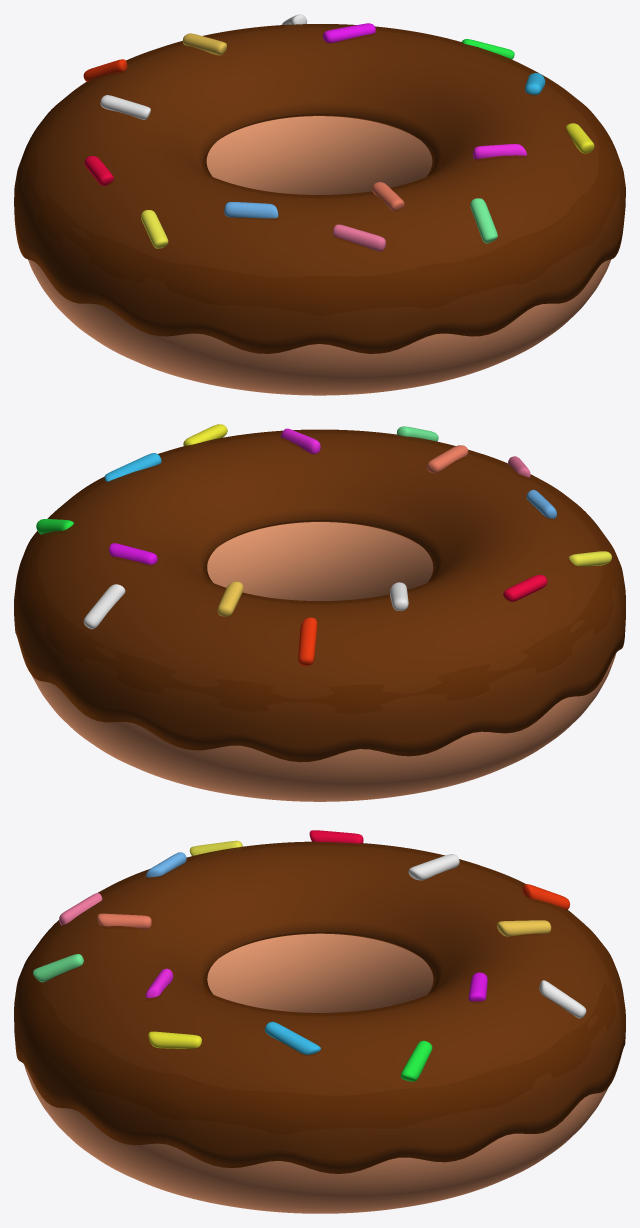
Rendered from NEWdonut.fbx.
The picture shows the model from 3 angles, top to bottom: view 1: azimuth 30°, elevation 25°; view 2: azimuth 150°, elevation 25°; view 3: azimuth 270°, elevation 25°; orthographic projection.
Visible parts, largest first — view 1: Torus.001, Torus, 큐브, 큐브.014, 큐브.013, 큐브.008, 큐브.005, 큐브.012, 큐브.002, 큐브.004; view 2: Torus.001, Torus, 큐브.011, 큐브.009, 큐브.006, 큐브.003, 큐브.005, 큐브.001, 큐브.004, 큐브.012, 큐브.002; view 3: Torus.001, Torus, 큐브.003, 큐브.010, 큐브.008, 큐브.004, 큐브.011, 큐브.013, 큐브.007, 큐브.001, 큐브.009, 큐브.006 (+1 smaller).
Part boxes in pixels (left/top/right/bottom): Torus.001: left=14, top=24, right=625, bottom=353; Torus: left=28, top=116, right=611, bottom=395; 큐브: left=224, top=202, right=278, bottom=218; 큐브.014: left=333, top=224, right=385, bottom=251; 큐브.013: left=470, top=198, right=497, bottom=243; 큐브.008: left=100, top=95, right=150, bottom=119; 큐브.005: left=323, top=23, right=375, bottom=43; 큐브.012: left=141, top=210, right=168, bottom=248; 큐브.002: left=473, top=144, right=526, bottom=159; 큐브.004: left=182, top=33, right=226, bottom=55; Torus.001: left=14, top=429, right=625, bottom=762; Torus: left=32, top=522, right=615, bottom=801; 큐브.011: left=83, top=584, right=125, bottom=629; 큐브.009: left=298, top=617, right=317, bottom=665; 큐브.006: left=503, top=574, right=547, bottom=601; 큐브.003: left=104, top=453, right=161, bottom=481; 큐브.005: left=109, top=543, right=157, bottom=564; 큐브.001: left=427, top=445, right=468, bottom=473; 큐브.004: left=217, top=581, right=243, bottom=616; 큐브.012: left=569, top=551, right=611, bottom=566; 큐브.002: left=280, top=428, right=320, bottom=453; Torus.001: left=14, top=841, right=625, bottom=1173; Torus: left=24, top=933, right=608, bottom=1213; 큐브.003: left=264, top=1021, right=320, bottom=1054; 큐브.010: left=148, top=1031, right=201, bottom=1048; 큐브.008: left=408, top=854, right=459, bottom=880; 큐브.004: left=497, top=920, right=551, bottom=936; 큐브.011: left=539, top=980, right=586, bottom=1018; 큐브.013: left=33, top=954, right=83, bottom=982; 큐브.007: left=400, top=1040, right=432, bottom=1081; 큐브.001: left=97, top=913, right=151, bottom=929; 큐브.009: left=522, top=884, right=569, bottom=909; 큐브.006: left=309, top=830, right=363, bottom=843.
Size of the model in its own units: 148 by 51.53 by 148.
